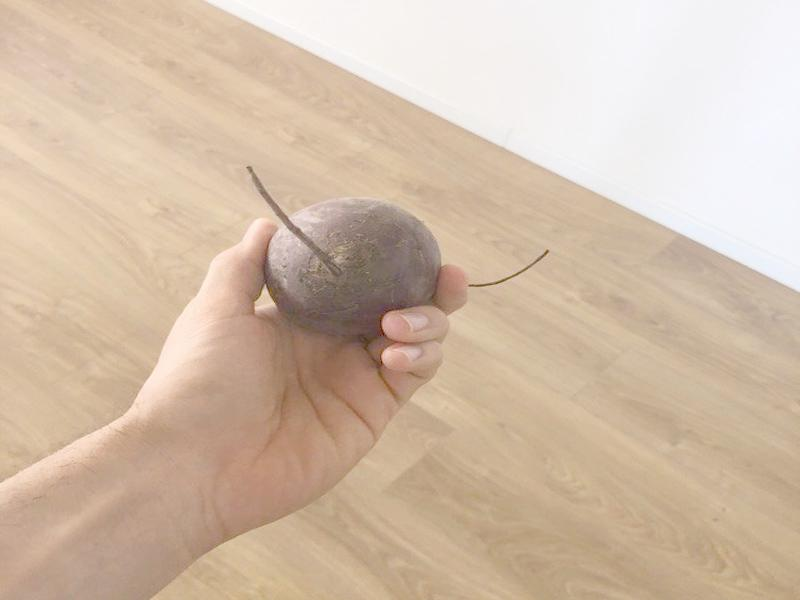Beet: (247, 166, 550, 338)
